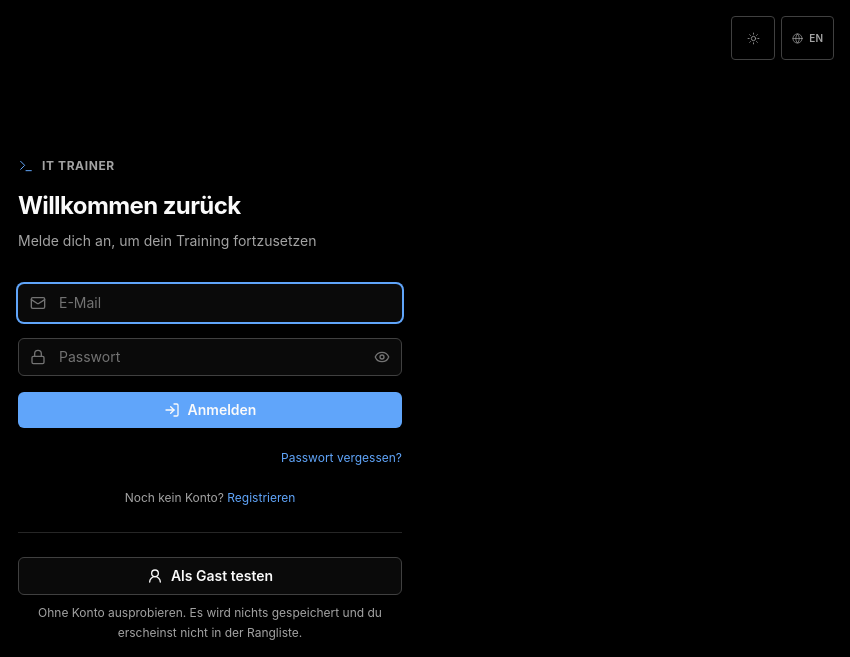
WelcomeScreen › register › switches to the register form and back
The width and height of the screenshot is (850, 657).
Click the button "Noch kein Konto? Registrieren" at (210, 498), box [125, 490, 295, 506]
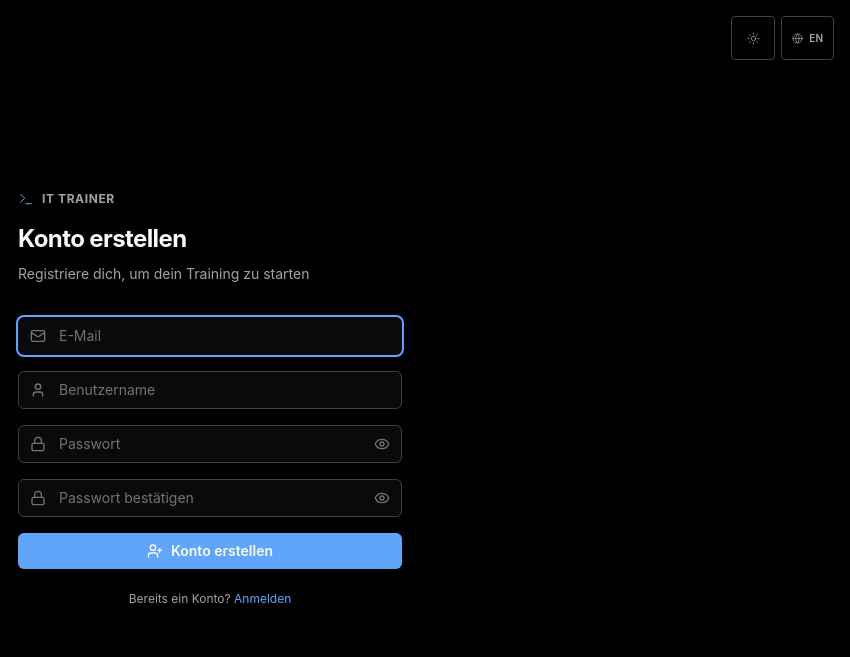
expect the heading "Konto erstellen" is shown: met, box [18, 224, 186, 253]
expect the field labelled "Benutzername" is shown: met, box [18, 371, 402, 409]
Click the button "Bereits ein Konto? Anmelden" at (210, 599), box [129, 591, 291, 607]
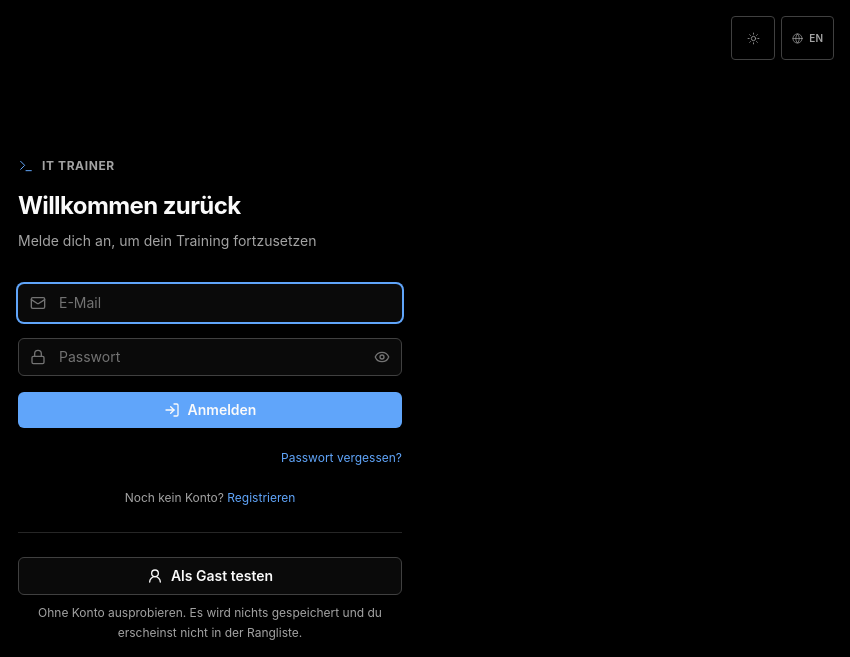
expect the heading "Willkommen zurück" is shown: met, box [18, 191, 240, 220]
